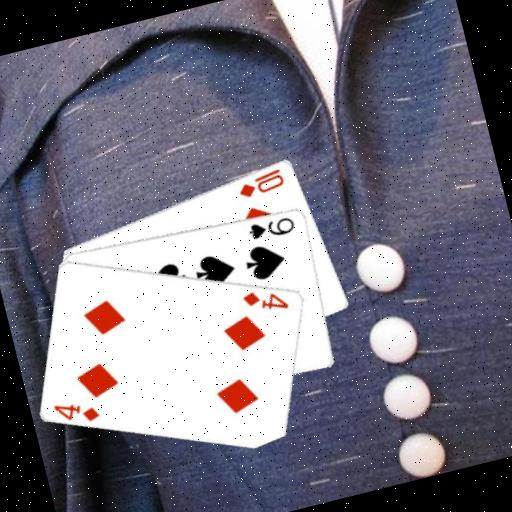10D: (233, 164, 289, 201)
4D: (50, 391, 104, 432), (239, 280, 292, 321)
9S: (244, 211, 298, 245)
